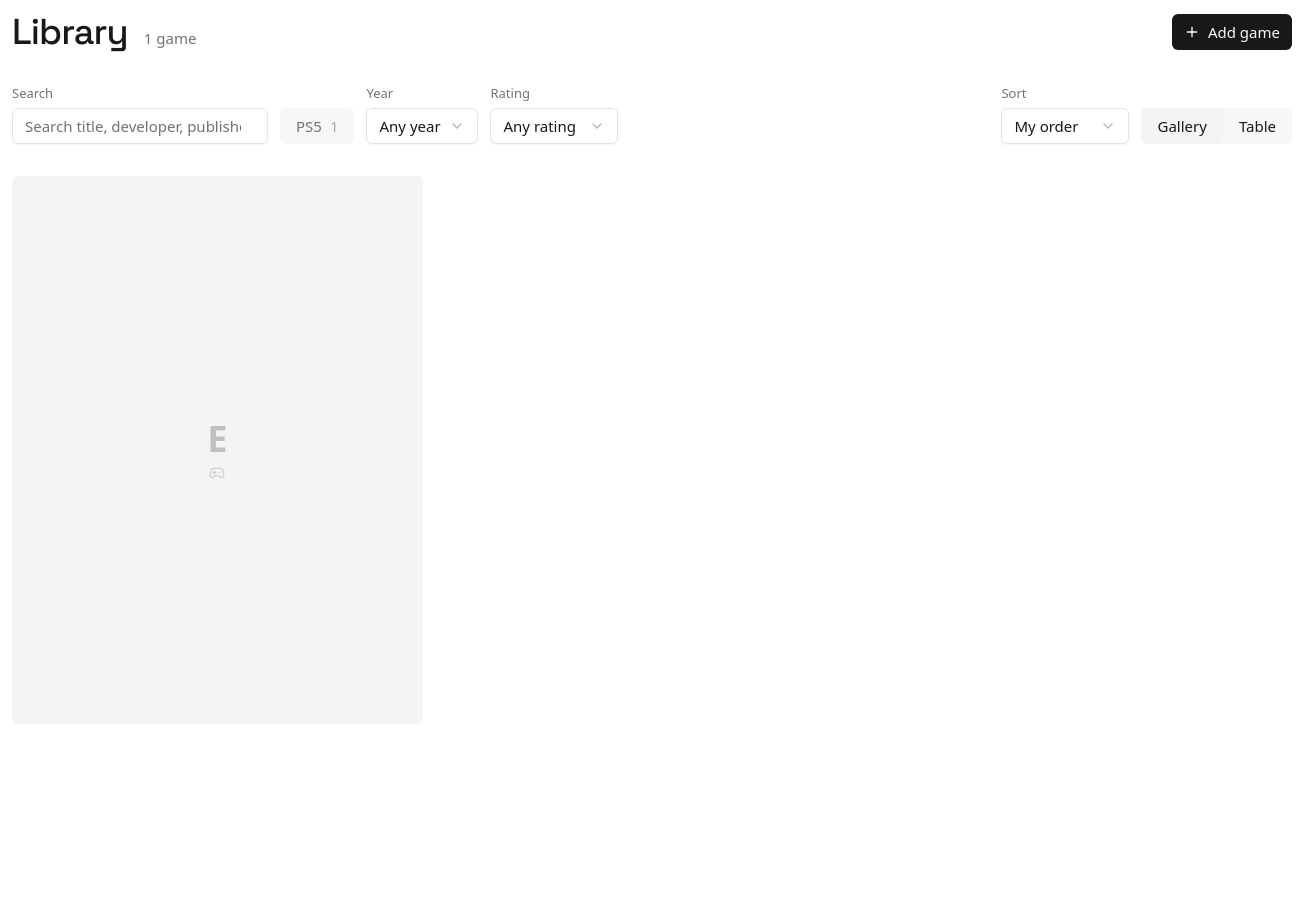
LibraryView › switches to a table view without losing any games
This screenshot has width=1304, height=912.
Click the button "Table". click: {"x": 1257, "y": 126}
box: [1223,108,1292,144]
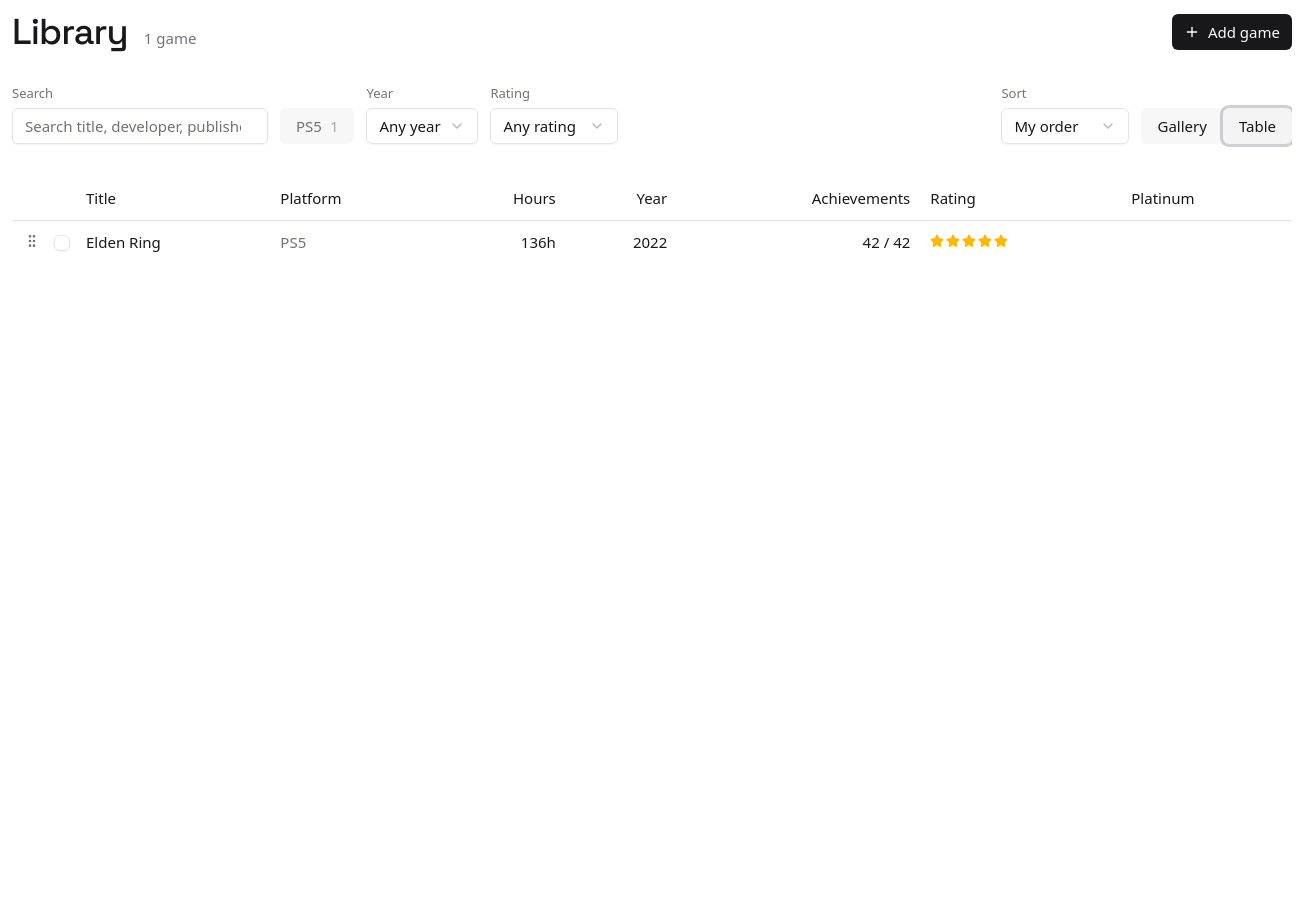
Expected: the table is shown, [12,176,1292,264]
Expected: the button "Elden Ring" is shown, [86,231,161,254]
